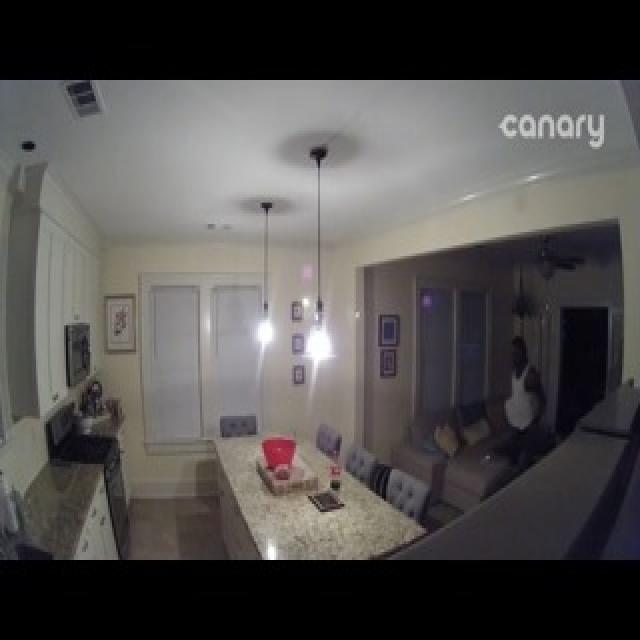thief: (484, 320, 540, 476)
